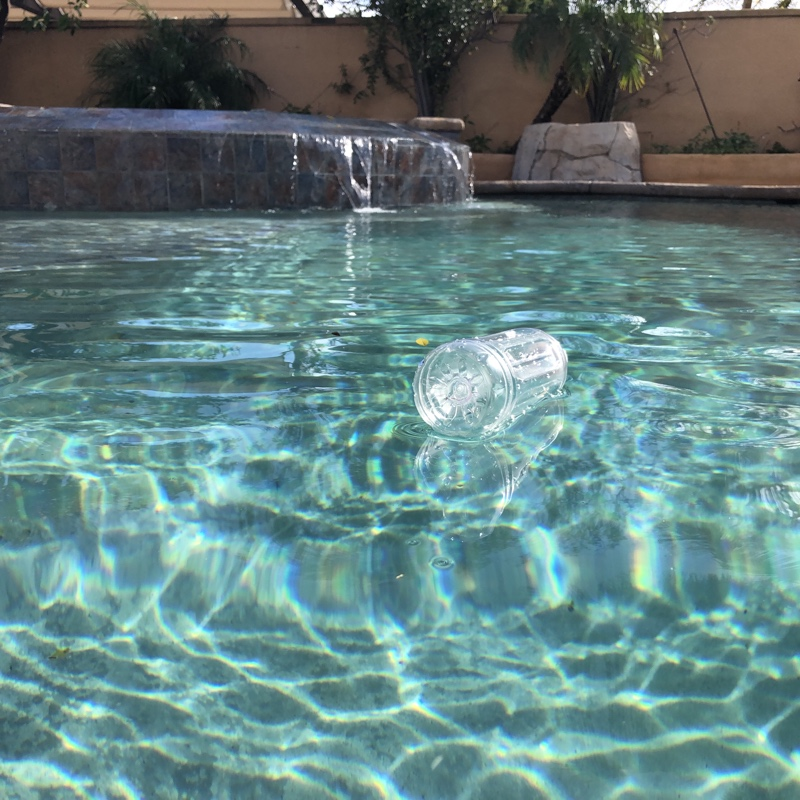Plastic Bottle: (405, 318, 572, 447)
